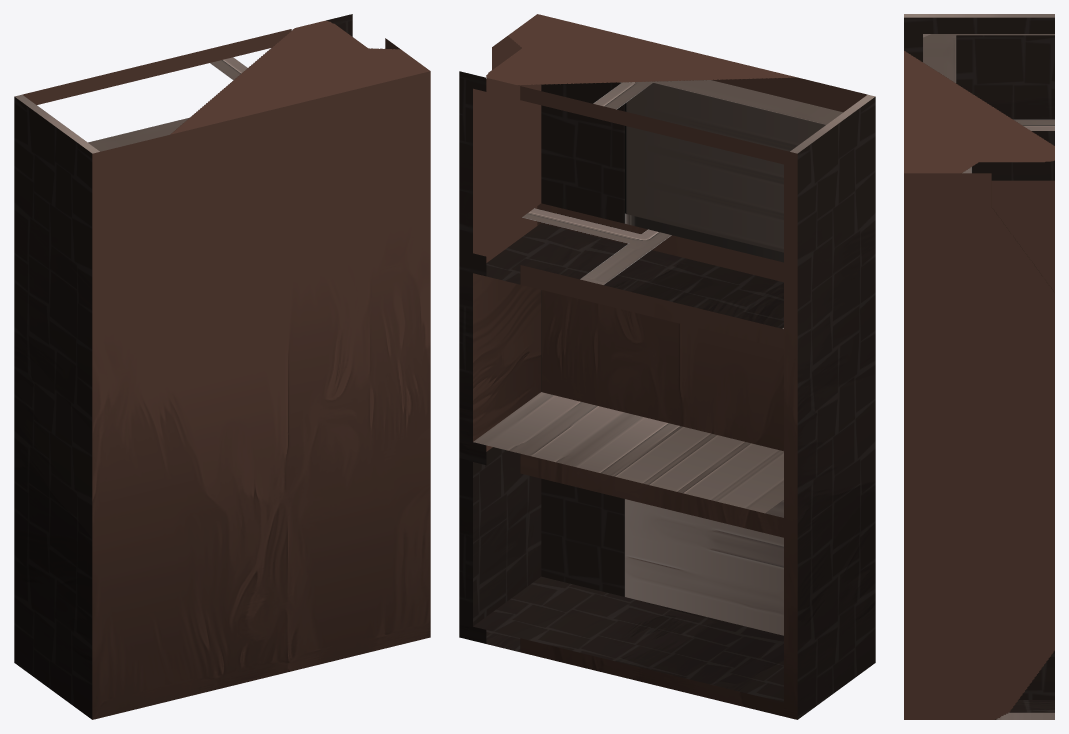
Rendered from Shelf.fbx.
3 renders of one model, left to right at view 1: azimuth 30°, elevation 25°; view 2: azimuth 150°, elevation 25°; view 3: azimuth 270°, elevation 25°, orthographic. The views are drawn at different scales.
Parts seen in each view (by area): view 1: Half_Wall.001; view 2: Half_Wall.001; view 3: Half_Wall.001.
Boxes of the visible parts, left/top/right/bottom form: Half_Wall.001: left=14, top=14, right=430, bottom=719; Half_Wall.001: left=459, top=14, right=875, bottom=719; Half_Wall.001: left=904, top=14, right=1054, bottom=719.
Size of the model in its own units: 1 by 0.4 by 1.6.
